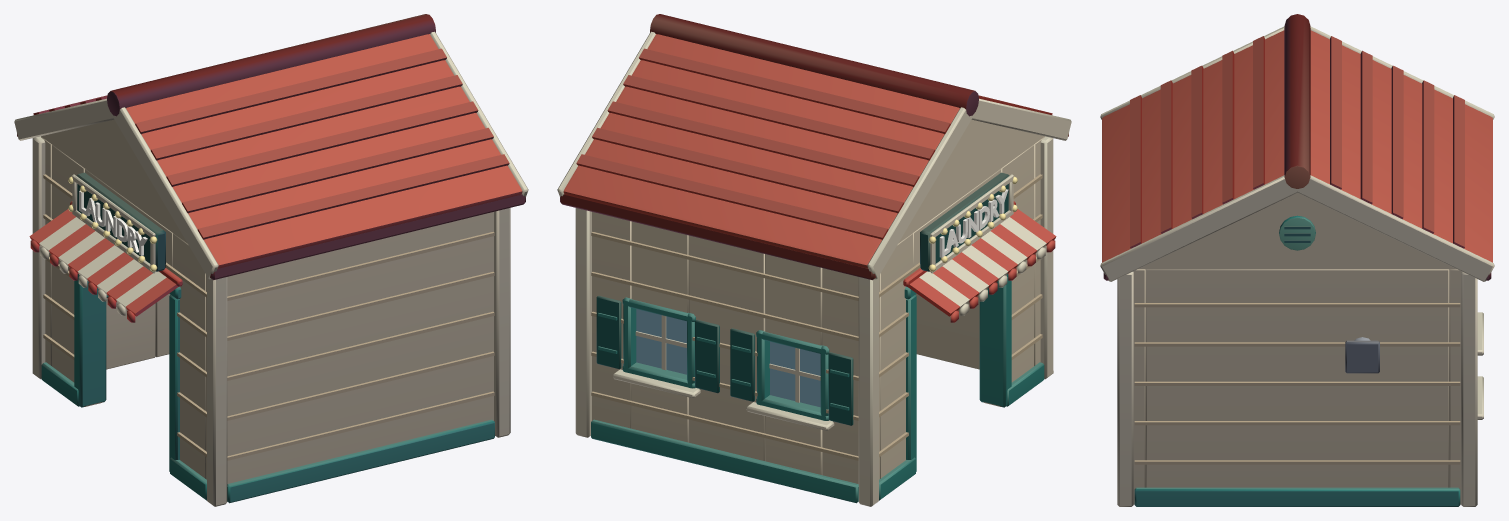
The model's file is LinenShed.fbx.
The picture shows the model from 3 angles, left to right: view 1: azimuth 30°, elevation 25°; view 2: azimuth 150°, elevation 25°; view 3: azimuth 270°, elevation 25°; orthographic projection.
Parts seen in each view (by area): view 1: SM_Bld_LinenShed_Walls, SM_Bld_LinenShed_Roof, SM_Bld_LinenShed_Trim, SM_Bld_LinenShed_Awning, SM_Bld_LinenShed_Sign, SM_Bld_LinenShed_Glow; view 2: SM_Bld_LinenShed_Roof, SM_Bld_LinenShed_Walls, SM_Bld_LinenShed_Trim, SM_Bld_LinenShed_Awning, SM_Bld_LinenShed_Glass, SM_Bld_LinenShed_Sign, SM_Bld_LinenShed_Glow; view 3: SM_Bld_LinenShed_Walls, SM_Bld_LinenShed_Roof, SM_Bld_LinenShed_Trim.
Boxes of the visible parts, x1,y1,x2,y2 form: SM_Bld_LinenShed_Walls: (41,119,494,483); SM_Bld_LinenShed_Roof: (17,14,525,280); SM_Bld_LinenShed_Trim: (14,31,528,506); SM_Bld_LinenShed_Awning: (29,201,182,322); SM_Bld_LinenShed_Sign: (72,172,165,273); SM_Bld_LinenShed_Glow: (68,176,157,271); SM_Bld_LinenShed_Roof: (560,14,1068,280); SM_Bld_LinenShed_Walls: (591,119,1044,483); SM_Bld_LinenShed_Trim: (557,31,1071,506); SM_Bld_LinenShed_Awning: (903,201,1056,322); SM_Bld_LinenShed_Glass: (636,309,820,407); SM_Bld_LinenShed_Sign: (920,172,1013,273); SM_Bld_LinenShed_Glow: (928,176,1017,271); SM_Bld_LinenShed_Walls: (1133,193,1461,504); SM_Bld_LinenShed_Roof: (1102,14,1492,280); SM_Bld_LinenShed_Trim: (1100,26,1494,506).
Bounding box in the file's own units: 18.64 × 17.63 × 18.16.
